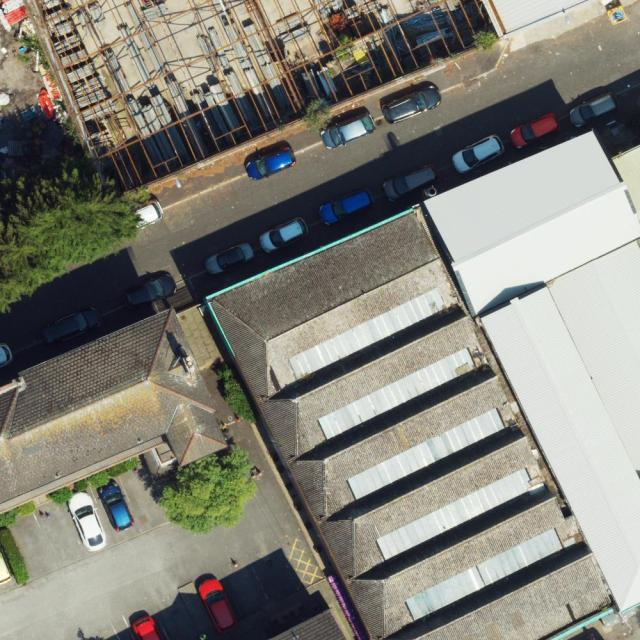roof: (207, 127, 640, 640), (0, 307, 228, 515), (489, 0, 598, 36), (271, 610, 345, 640)
skylight: (403, 527, 566, 624), (374, 465, 535, 561), (287, 287, 450, 381), (317, 347, 480, 441), (348, 406, 507, 501)
